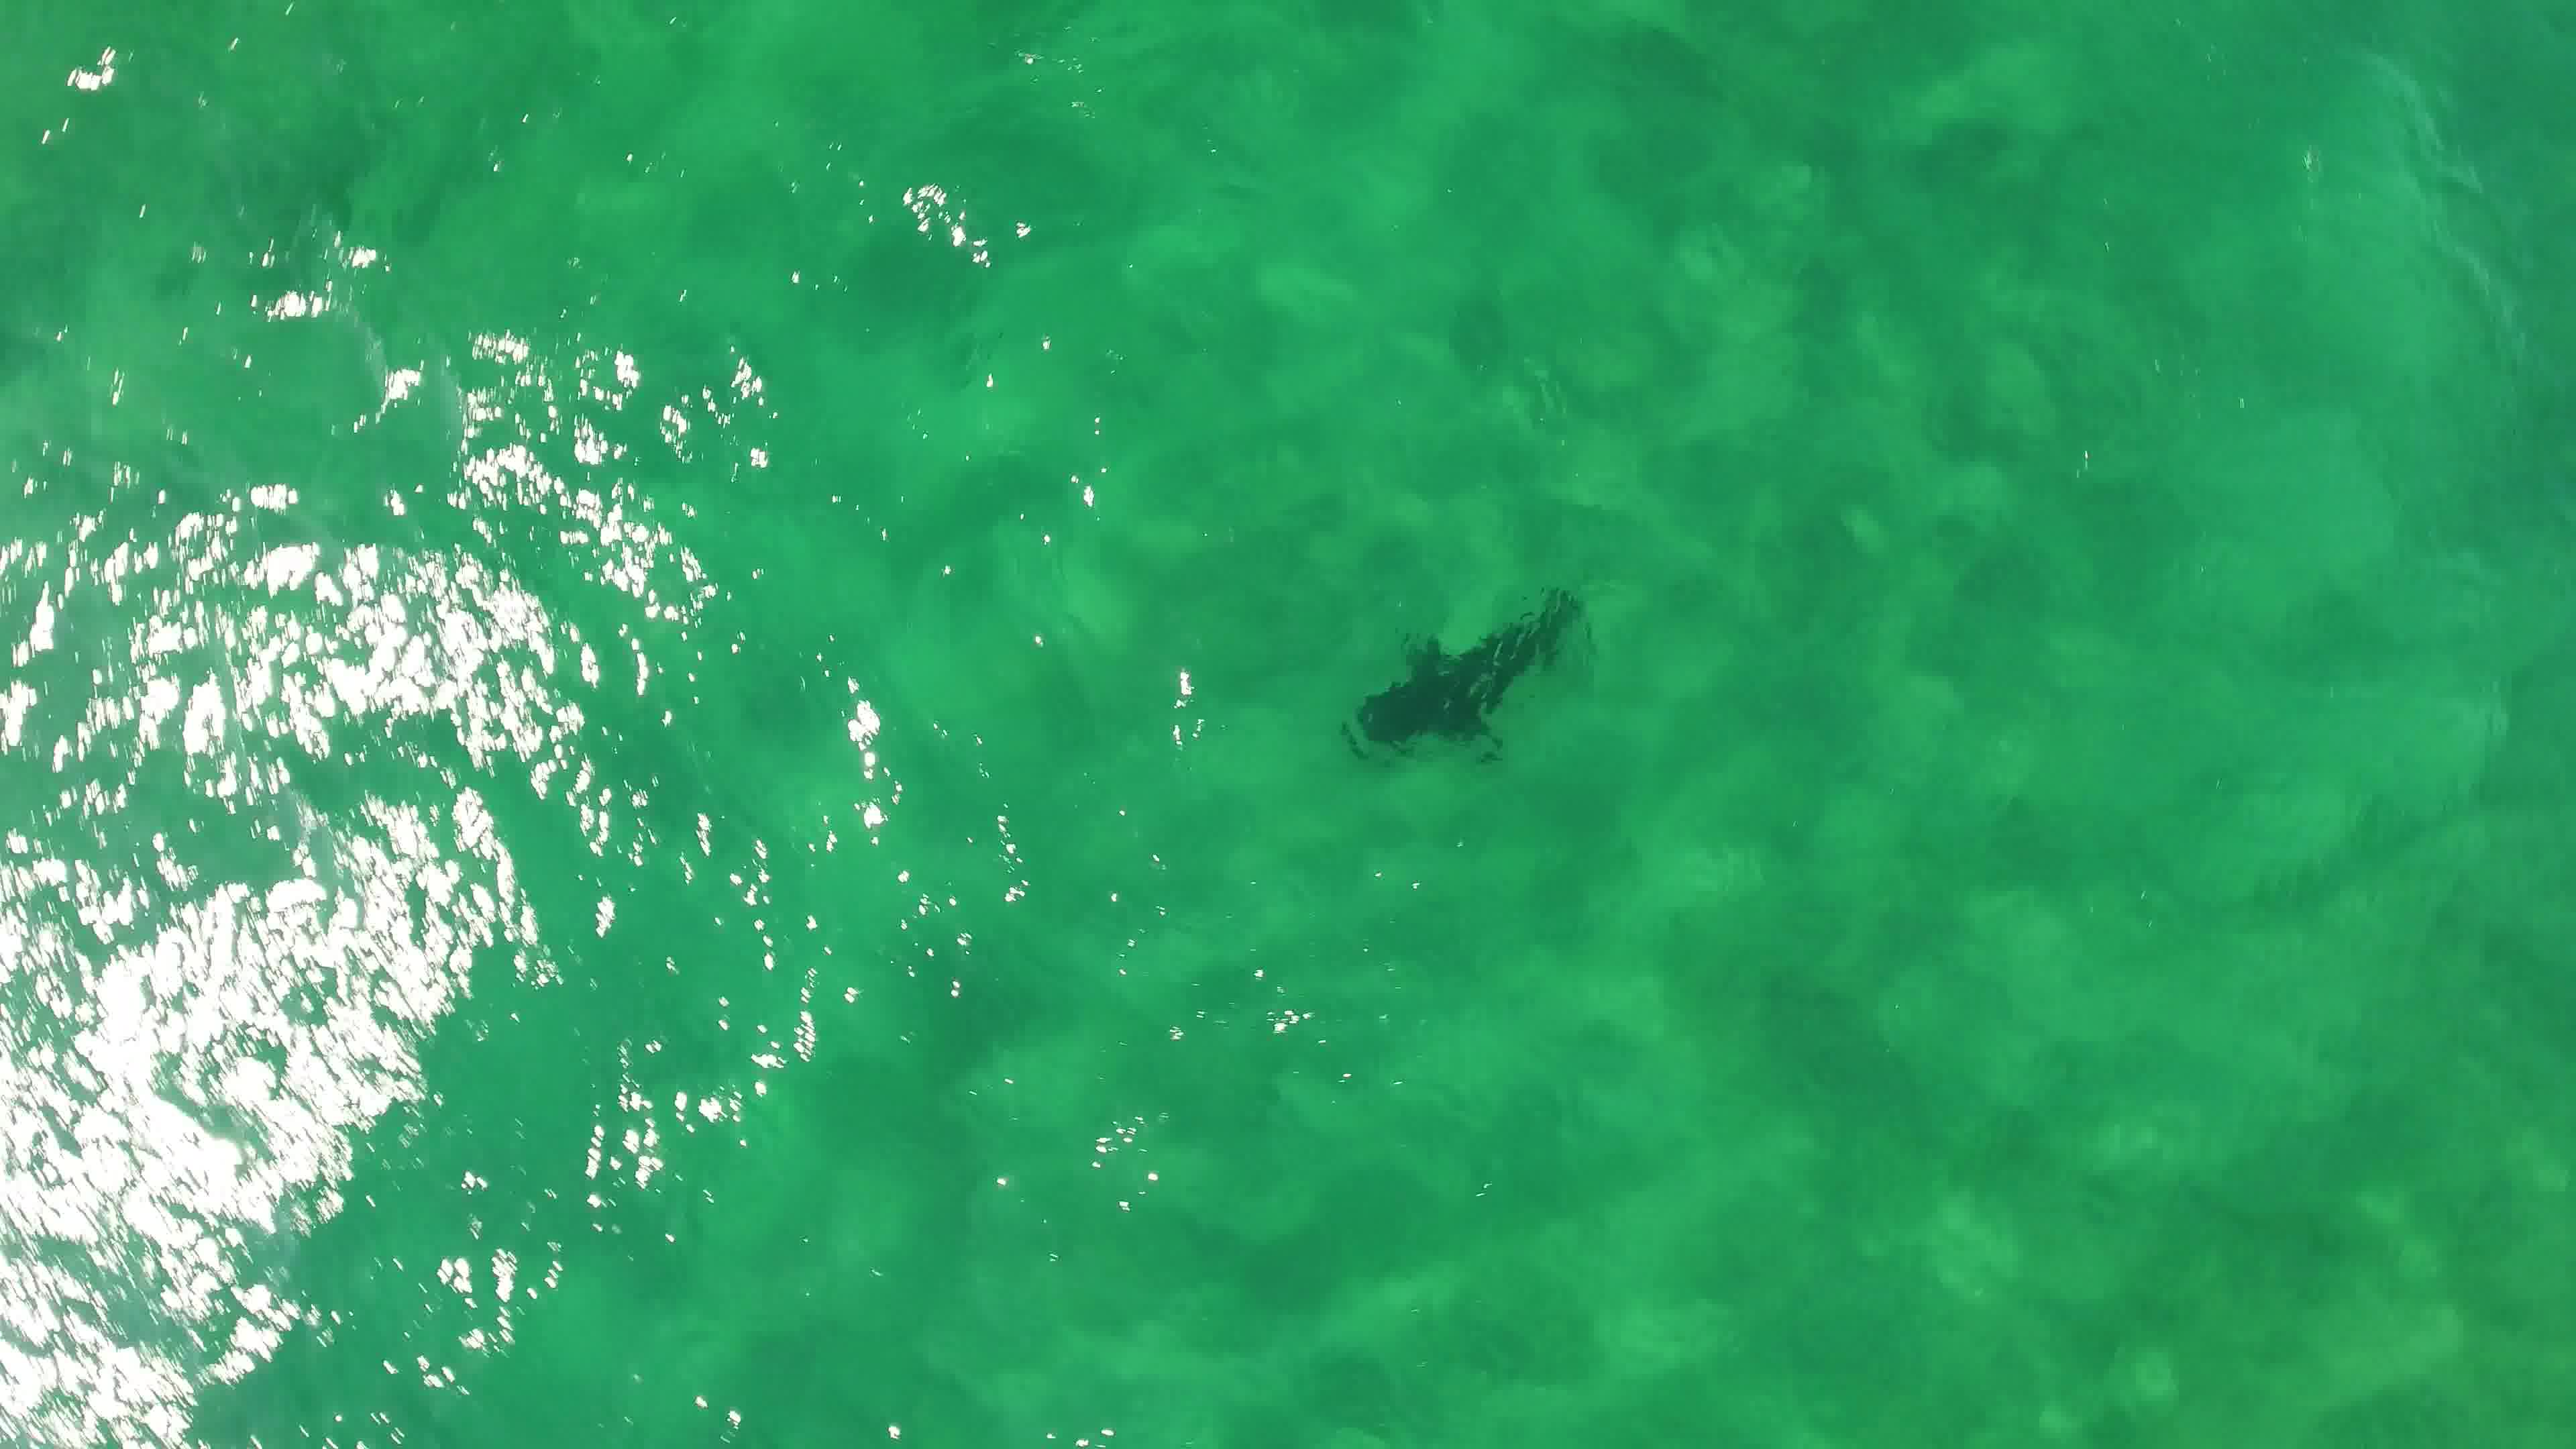shark: (1336, 561, 1591, 771)
